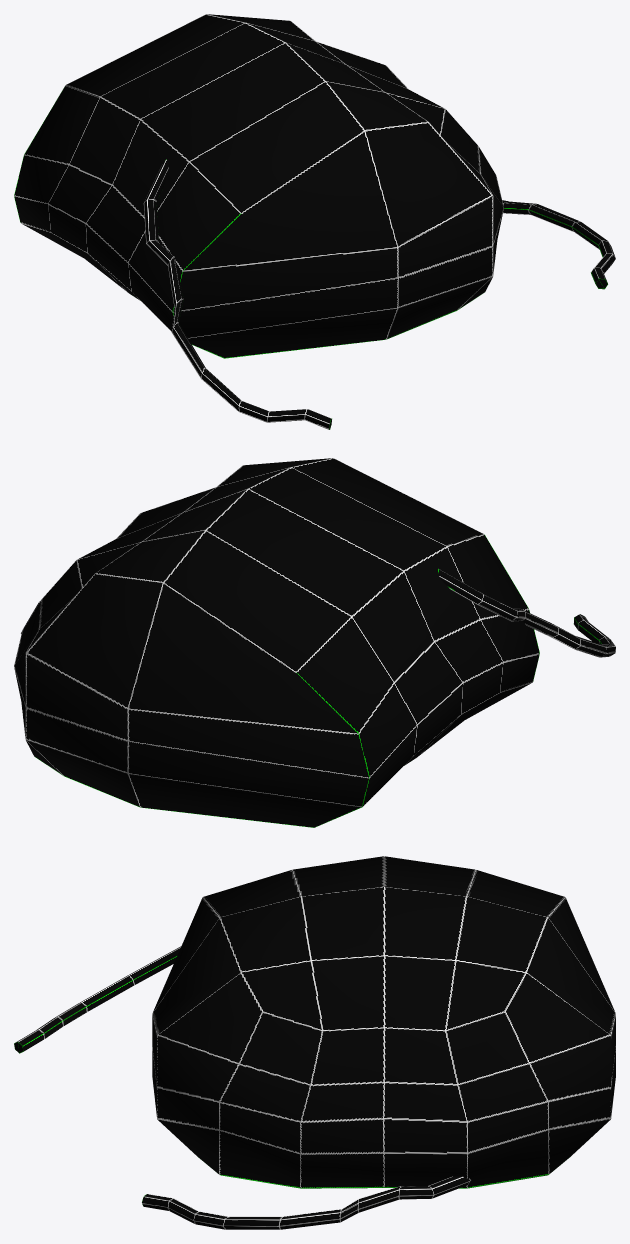
Rendered from asset_ingredient_pasta.FBX.
3 renders of one model, top to bottom at view 1: azimuth 30°, elevation 25°; view 2: azimuth 150°, elevation 25°; view 3: azimuth 270°, elevation 25°, orthographic. The views are drawn at different scales.
Parts seen in each view (by area): view 1: Box011; view 2: Box011; view 3: Box011.
Part boxes in pixels (<box>): Box011: <box>14,14,615,429</box>; Box011: <box>14,458,615,827</box>; Box011: <box>14,856,615,1229</box>.
Size of the model in its own units: 11.8 by 5.54 by 12.95.
